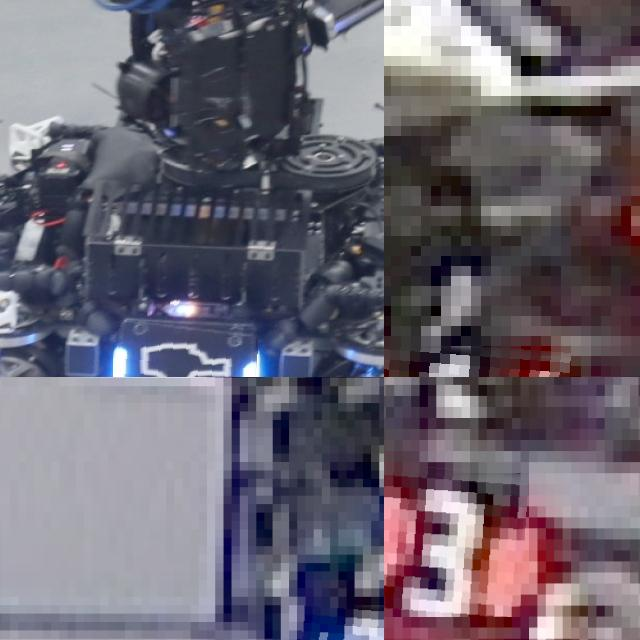B2: (297, 597, 384, 640)
Bs: (113, 320, 259, 377)
R1: (384, 336, 571, 377)
R3: (384, 462, 529, 616)
